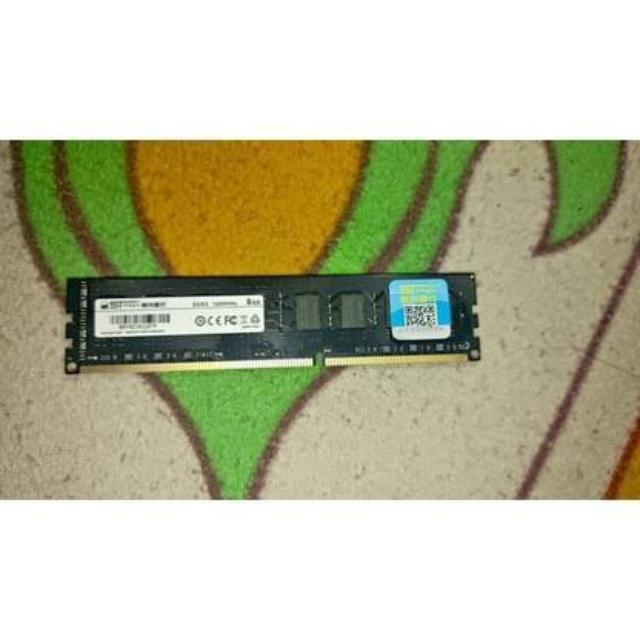RAM: (61, 267, 492, 381)
